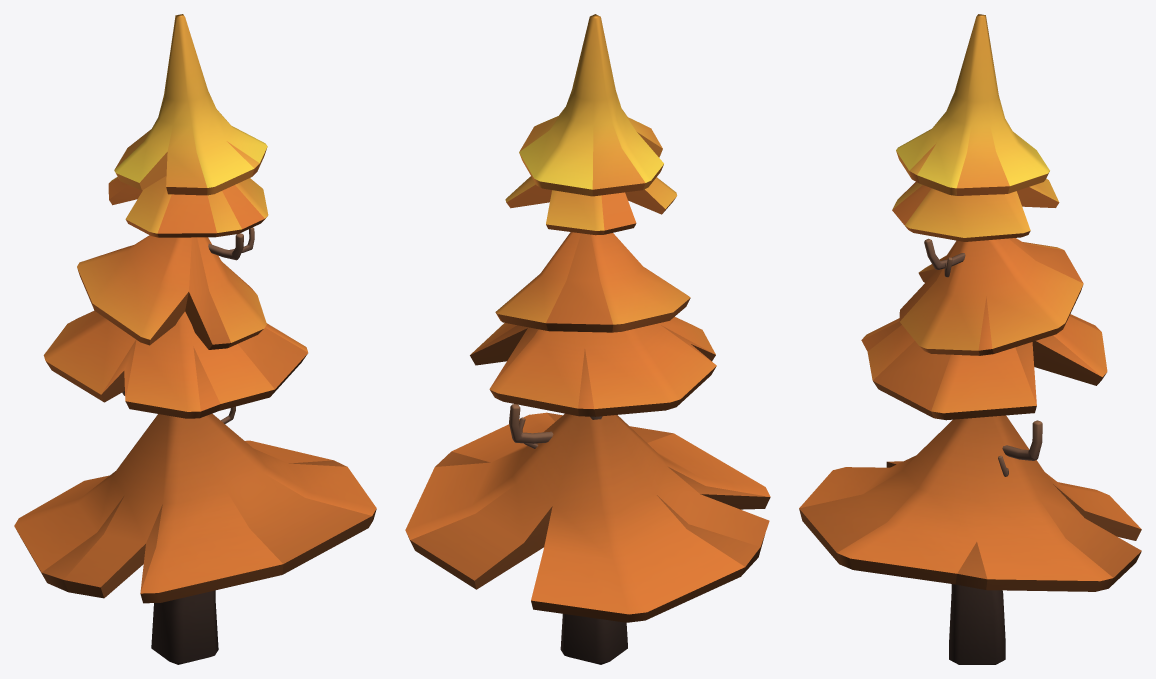
File: pine_tree_col2_03.fbx
3 views of the same model, side by side, from view 1: azimuth 30°, elevation 25°; view 2: azimuth 150°, elevation 25°; view 3: azimuth 270°, elevation 25° (orthographic).
Parts seen in each view (by area): view 1: tree_pine_col2_03; view 2: tree_pine_col2_03; view 3: tree_pine_col2_03.
Part boxes in pixels (<box>): tree_pine_col2_03: <box>14,14,376,664</box>; tree_pine_col2_03: <box>405,14,770,664</box>; tree_pine_col2_03: <box>799,14,1141,664</box>.
Size of the model in its own units: 587 by 1190 by 578.
Materials: 1 (1 with a texture image).
